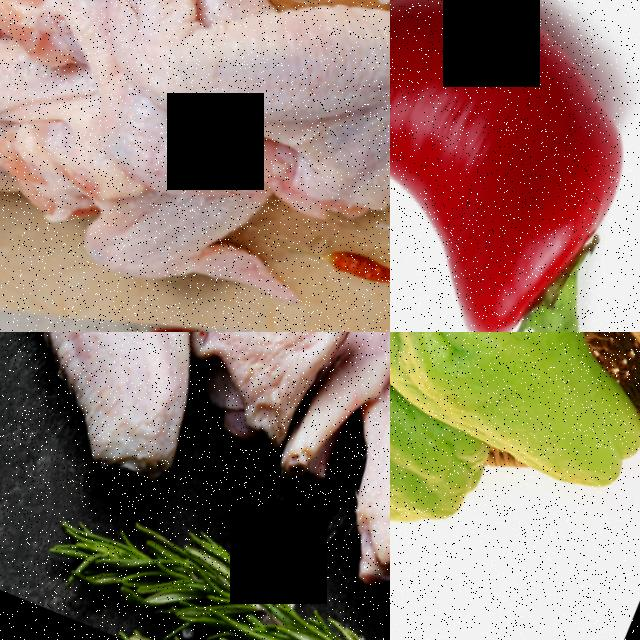chayote: (390, 332, 640, 513), (390, 342, 499, 618)
chicken wing: (2, 0, 390, 275), (0, 332, 381, 555)
chilli: (390, 0, 640, 332)
